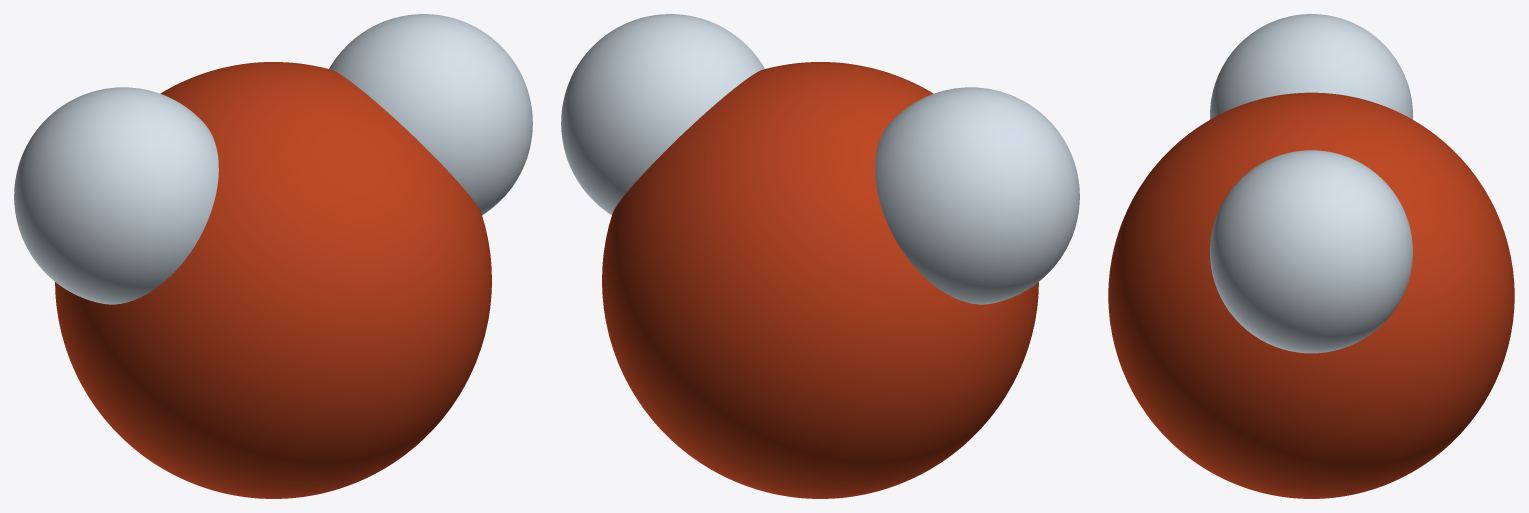
Rendered from water.dae.
3 views of the same model, side by side, from view 1: azimuth 30°, elevation 25°; view 2: azimuth 150°, elevation 25°; view 3: azimuth 270°, elevation 25° (orthographic). The views are drawn at different scales.
Bounding box in the file's own units: 0.1293 × 0.1054 × 0.1.
